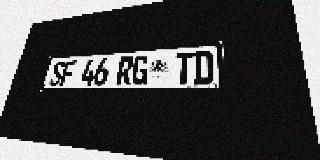4: (80, 59, 98, 86)
6: (93, 58, 111, 86)
D: (194, 51, 214, 84)
F: (59, 60, 77, 86)
G: (131, 55, 149, 85)
R: (116, 56, 134, 85)
S: (48, 61, 65, 86)
T: (174, 52, 193, 85)
